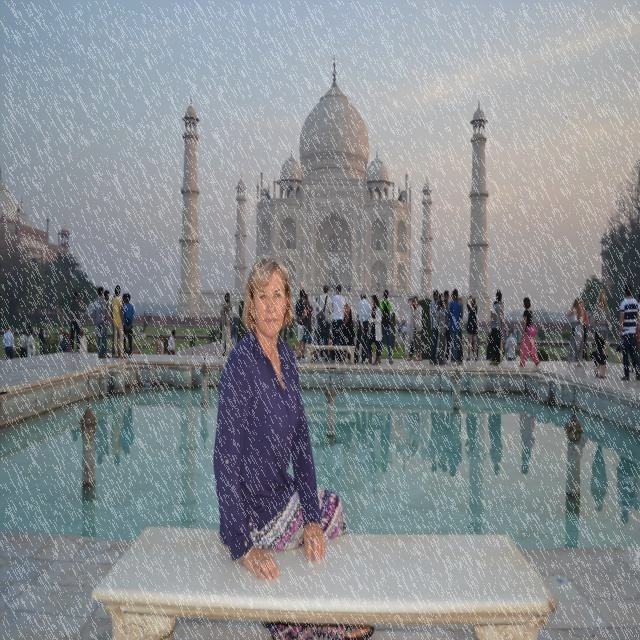pessoa: (212, 254, 348, 581), (301, 408, 540, 482), (69, 400, 139, 470), (616, 282, 640, 382), (611, 454, 639, 537), (589, 286, 612, 379), (310, 283, 332, 362), (590, 436, 610, 520), (328, 283, 348, 364), (518, 295, 540, 367), (294, 291, 316, 362), (362, 293, 382, 367), (564, 296, 584, 367), (352, 288, 370, 366), (376, 288, 394, 364), (111, 284, 129, 359), (447, 290, 463, 368), (68, 290, 87, 354), (488, 292, 504, 368), (217, 291, 234, 359), (490, 290, 506, 362), (94, 286, 108, 360), (428, 288, 441, 364), (111, 285, 124, 357), (450, 288, 462, 366), (121, 292, 135, 358), (589, 326, 609, 372), (465, 293, 478, 363), (435, 297, 448, 365), (630, 292, 640, 374), (578, 298, 590, 366), (295, 288, 306, 359), (442, 288, 452, 362), (100, 289, 110, 359), (413, 294, 423, 361), (120, 292, 130, 356), (404, 298, 414, 360), (343, 303, 357, 347), (2, 323, 16, 361), (504, 328, 518, 361), (310, 296, 320, 327), (26, 329, 36, 358), (325, 332, 334, 364), (19, 329, 29, 357), (472, 331, 481, 362), (78, 330, 89, 354), (26, 329, 34, 359), (167, 329, 176, 355), (38, 327, 46, 355), (486, 325, 492, 360), (512, 323, 524, 340), (60, 330, 69, 352), (156, 334, 164, 356), (57, 328, 64, 352), (436, 292, 444, 312), (502, 322, 509, 340), (401, 321, 407, 341), (232, 320, 236, 345), (396, 320, 401, 338), (65, 330, 71, 340), (42, 329, 47, 340)
